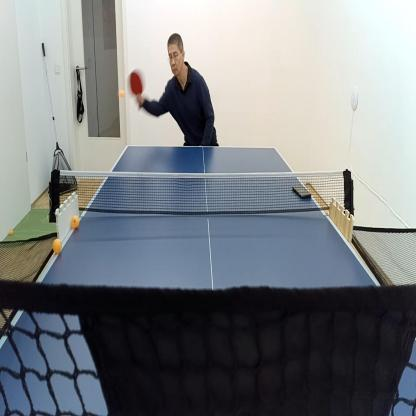Ball: (53, 238, 62, 254), (71, 214, 79, 228), (121, 90, 123, 98), (10, 230, 13, 234)
